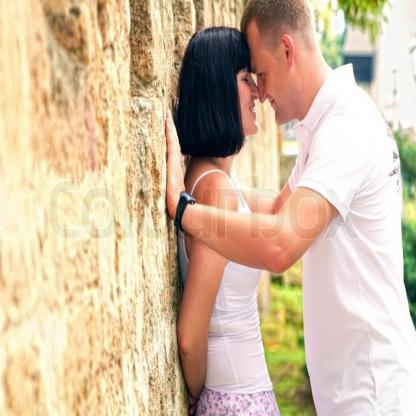face: (247, 27, 291, 125), (233, 43, 261, 135)
